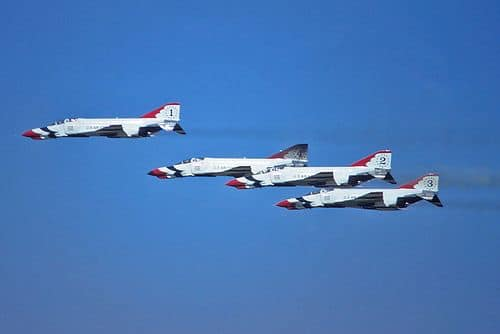F4: (223, 148, 397, 190), (273, 172, 444, 212), (20, 101, 187, 141), (146, 143, 310, 180)
